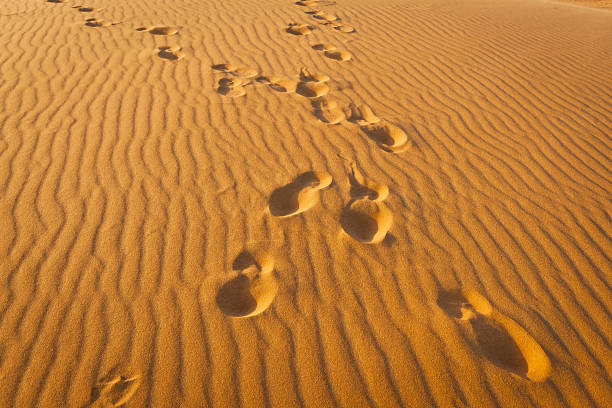human_foot_print: (437, 289, 551, 381), (340, 164, 392, 243), (216, 251, 277, 317), (349, 104, 412, 152), (269, 171, 332, 216), (90, 370, 139, 407), (361, 121, 412, 152), (212, 63, 257, 96), (312, 98, 345, 123), (312, 43, 351, 60), (212, 63, 257, 77), (217, 77, 250, 96), (300, 67, 329, 82), (158, 46, 184, 60), (137, 26, 177, 35), (286, 22, 313, 34), (85, 18, 118, 26)
